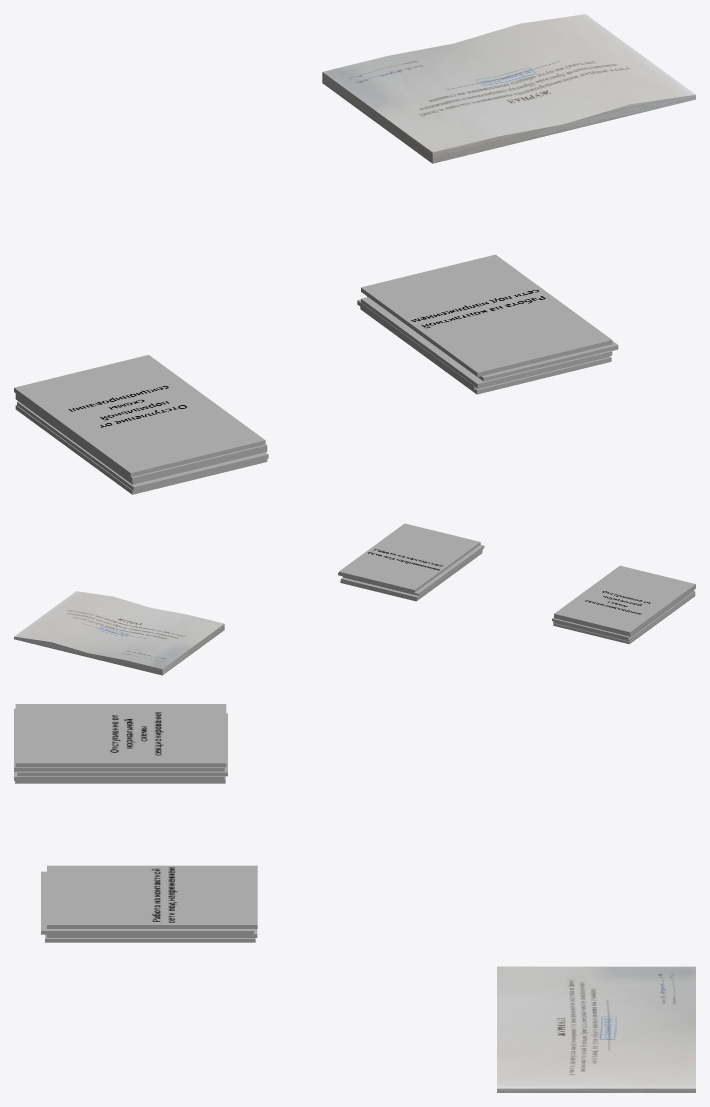
The model's file is Журналы.fbx.
3 views of the same model, one above another, from view 1: azimuth 30°, elevation 25°; view 2: azimuth 150°, elevation 25°; view 3: azimuth 270°, elevation 25° (orthographic). The views are drawn at different scales.
Parts seen in each view (by area): view 1: Журнал_ДУ_46, Box543, Журнал__Отступление_от_нормальныи_схемы_секционирования_, Box545, Box541, Журнал, Box547, Box542, Box544, Box546, Журнал_1; view 2: Журнал_ДУ_46, Box543, Журнал__Отступление_от_нормальныи_схемы_секционирования_, Box545, Box546, Box542, Журнал_1, Box541, Журнал, Box547; view 3: Журнал_ДУ_46, Журнал__Отступление_от_нормальныи_схемы_секционирования_, Box543, Box544, Журнал_1, Журнал, Box541, Box547, Box546, Box542.
Part boxes in pixels (<box>): Журнал_ДУ_46: <box>322,14,695,163</box>; Box543: <box>361,254,612,376</box>; Журнал__Отступление_от_нормальныи_схемы_секционирования_: <box>14,355,265,477</box>; Box545: <box>361,297,612,388</box>; Box541: <box>17,401,268,491</box>; Журнал: <box>15,393,267,482</box>; Box547: <box>360,307,611,394</box>; Box542: <box>15,405,267,494</box>; Box544: <box>367,296,618,381</box>; Box546: <box>357,299,608,389</box>; Журнал_1: <box>15,397,267,484</box>; Журнал_ДУ_46: <box>14,591,224,675</box>; Box543: <box>339,523,480,592</box>; Журнал__Отступление_от_нормальныи_схемы_секционирования_: <box>554,565,695,634</box>; Box545: <box>342,544,484,595</box>; Box546: <box>341,549,482,599</box>; Box542: <box>553,594,695,644</box>; Журнал_1: <box>552,590,693,639</box>; Box541: <box>553,591,695,641</box>; Журнал: <box>554,587,695,636</box>; Box547: <box>340,552,482,601</box>; Журнал_ДУ_46: <box>497,966,695,1092</box>; Журнал__Отступление_от_нормальныи_схемы_секционирования_: <box>15,704,226,767</box>; Box543: <box>47,865,257,928</box>; Box544: <box>43,871,253,934</box>; Журнал_1: <box>17,713,227,776</box>; Журнал: <box>14,708,224,771</box>; Box541: <box>14,772,224,780</box>; Box547: <box>45,934,255,942</box>; Box546: <box>47,929,257,937</box>; Box542: <box>15,776,225,783</box>.
Bounding box in the file's own units: 109 × 3.1 × 85.64.
11 materials, 11 textured.
